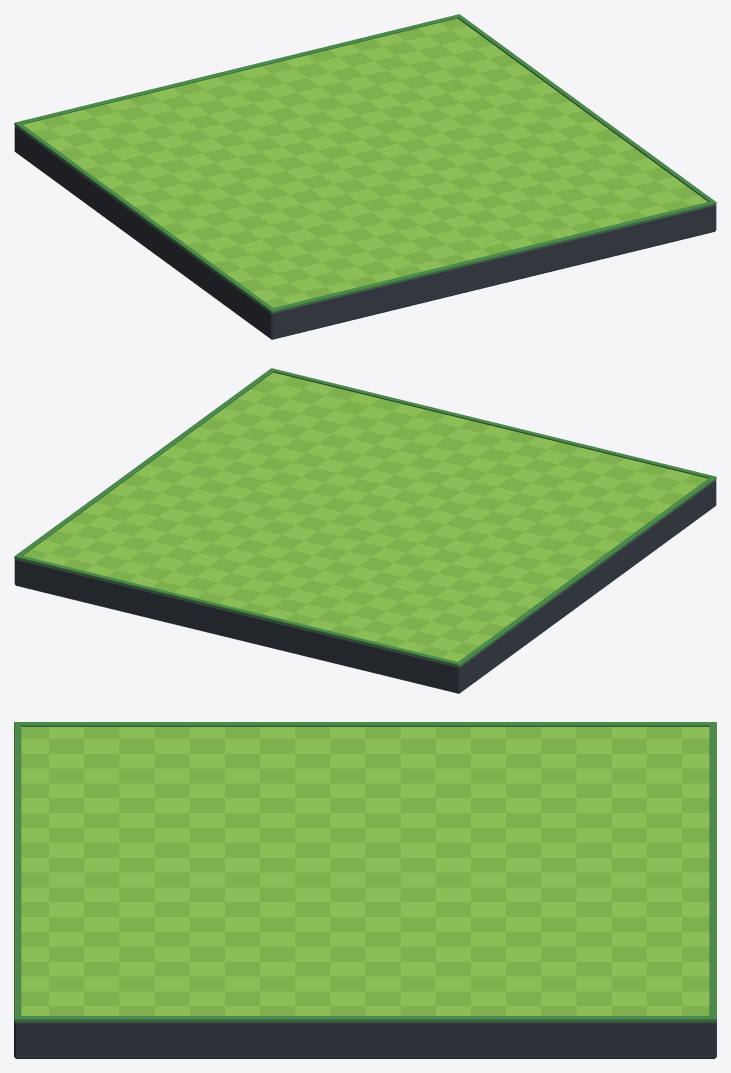
File: PF_BlockGround.fbx
The picture shows the model from 3 angles, top to bottom: view 1: azimuth 30°, elevation 25°; view 2: azimuth 150°, elevation 25°; view 3: azimuth 270°, elevation 25°; orthographic projection. The views are drawn at different scales.
Parts seen in each view (by area): view 1: Ground_CheckerTop, Ground_Block, Ground_GrassEdge; view 2: Ground_CheckerTop, Ground_Block, Ground_GrassEdge; view 3: Ground_CheckerTop, Ground_Block, Ground_GrassEdge.
Boxes of the visible parts, x1=… form: Ground_CheckerTop: x1=23, y1=18, x2=707, y2=307; Ground_Block: x1=14, y1=126, x2=716, y2=339; Ground_GrassEdge: x1=14, y1=14, x2=716, y2=313; Ground_CheckerTop: x1=23, y1=372, x2=707, y2=661; Ground_Block: x1=14, y1=480, x2=716, y2=693; Ground_GrassEdge: x1=14, y1=368, x2=716, y2=667; Ground_CheckerTop: x1=21, y1=727, x2=709, y2=1015; Ground_Block: x1=14, y1=1022, x2=716, y2=1058; Ground_GrassEdge: x1=14, y1=722, x2=716, y2=1022.
Bounding box in the file's own units: 40 × 2.56 × 40.
